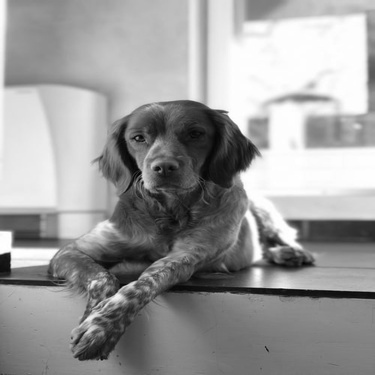dog: (43, 94, 318, 367)
